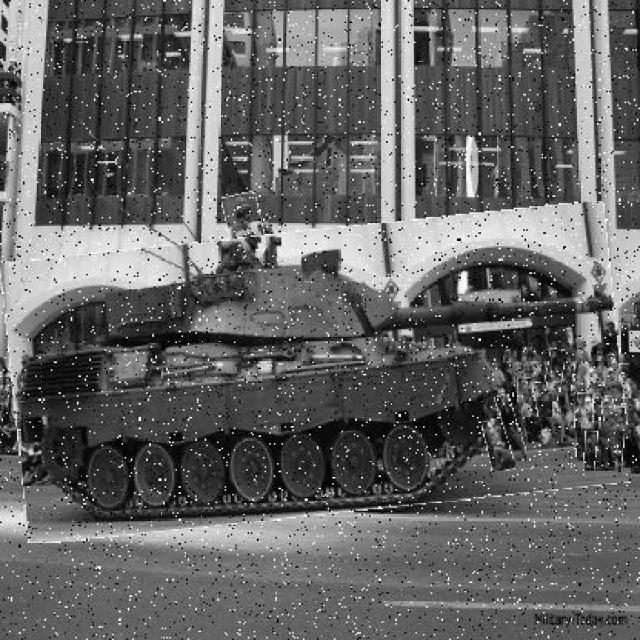Person: (227, 193, 267, 266), (597, 407, 626, 473), (614, 404, 640, 472), (555, 410, 582, 475), (486, 418, 517, 473), (534, 412, 560, 473), (501, 395, 524, 462), (513, 410, 538, 466), (576, 394, 595, 463), (546, 350, 566, 404), (586, 432, 609, 473), (573, 364, 592, 400), (519, 378, 535, 419), (604, 349, 621, 384), (627, 397, 640, 431), (538, 394, 555, 420), (619, 364, 632, 396), (535, 383, 549, 412), (604, 397, 618, 423), (629, 378, 640, 402)
Tank: (7, 217, 627, 531)
